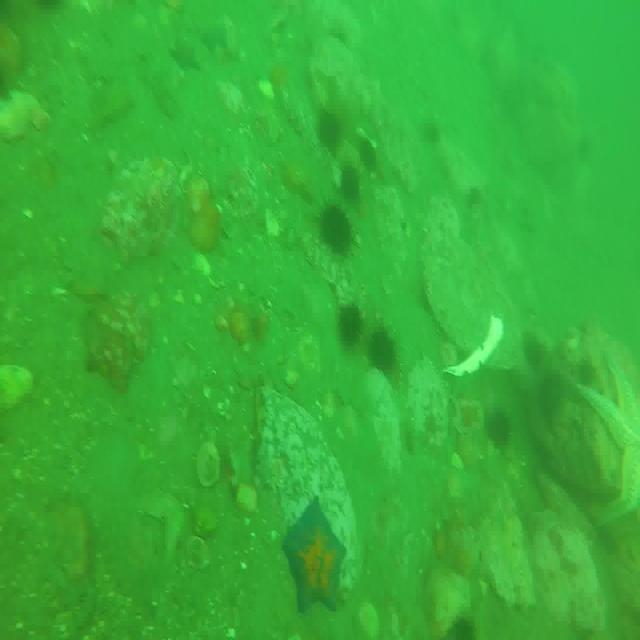echinus: (323, 206, 354, 262), (369, 325, 396, 374), (439, 607, 478, 640), (486, 404, 512, 448), (337, 303, 363, 347), (316, 112, 341, 154), (342, 162, 362, 205), (541, 373, 561, 415), (368, 146, 382, 187), (577, 358, 597, 386)
scallop: (197, 434, 220, 492)
starfish: (584, 357, 640, 530), (286, 499, 345, 617), (171, 37, 201, 73)
